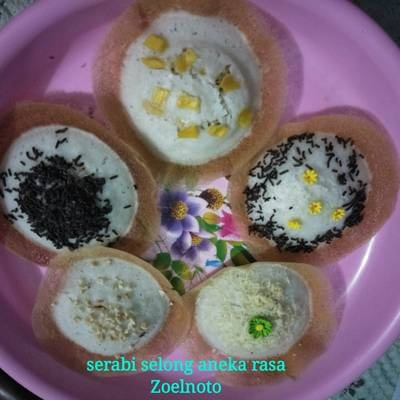srabi: (93, 2, 285, 170), (224, 107, 396, 261), (2, 113, 163, 275), (182, 267, 341, 377)
